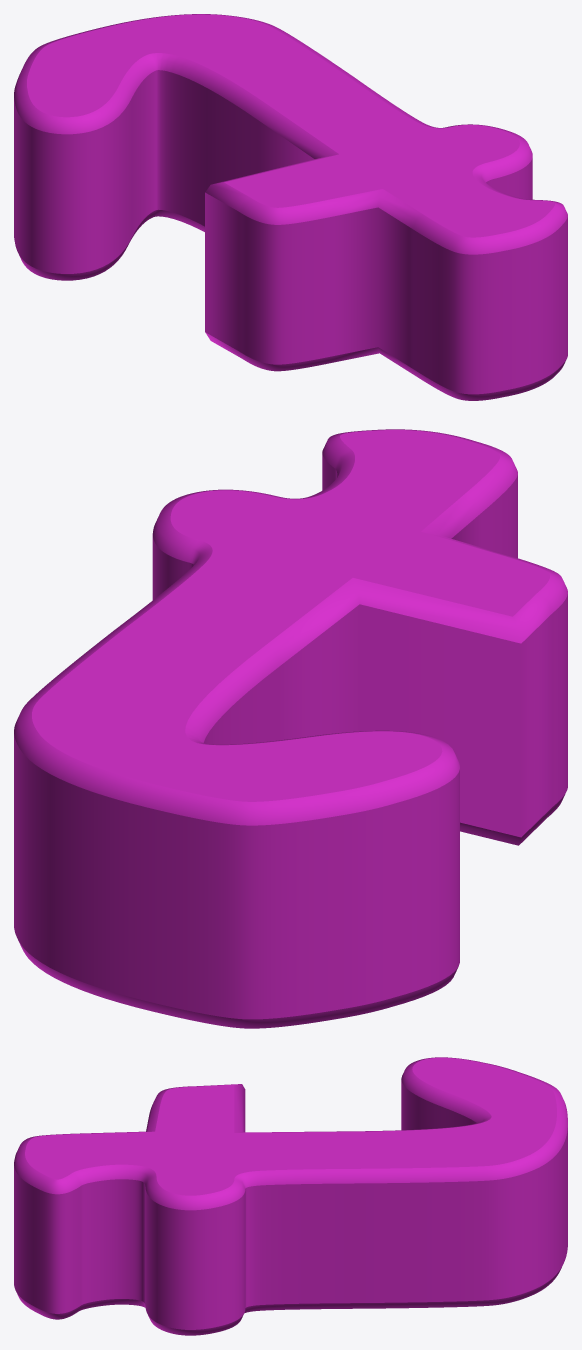
Rendered from Bubble_Letter_t.fbx.
3 views of the same model, one above another, from view 1: azimuth 30°, elevation 25°; view 2: azimuth 150°, elevation 25°; view 3: azimuth 270°, elevation 25° (orthographic). The views are drawn at different scales.
Visible parts, largest first — view 1: BubbleLetter_t; view 2: BubbleLetter_t; view 3: BubbleLetter_t.
Part boxes in pixels (left/top/right/bottom): BubbleLetter_t: left=14, top=14, right=567, bottom=400; BubbleLetter_t: left=14, top=429, right=567, bottom=1028; BubbleLetter_t: left=14, top=1057, right=567, bottom=1335.
Bounding box in the file's own units: 0.317 × 0.14 × 0.5036.
